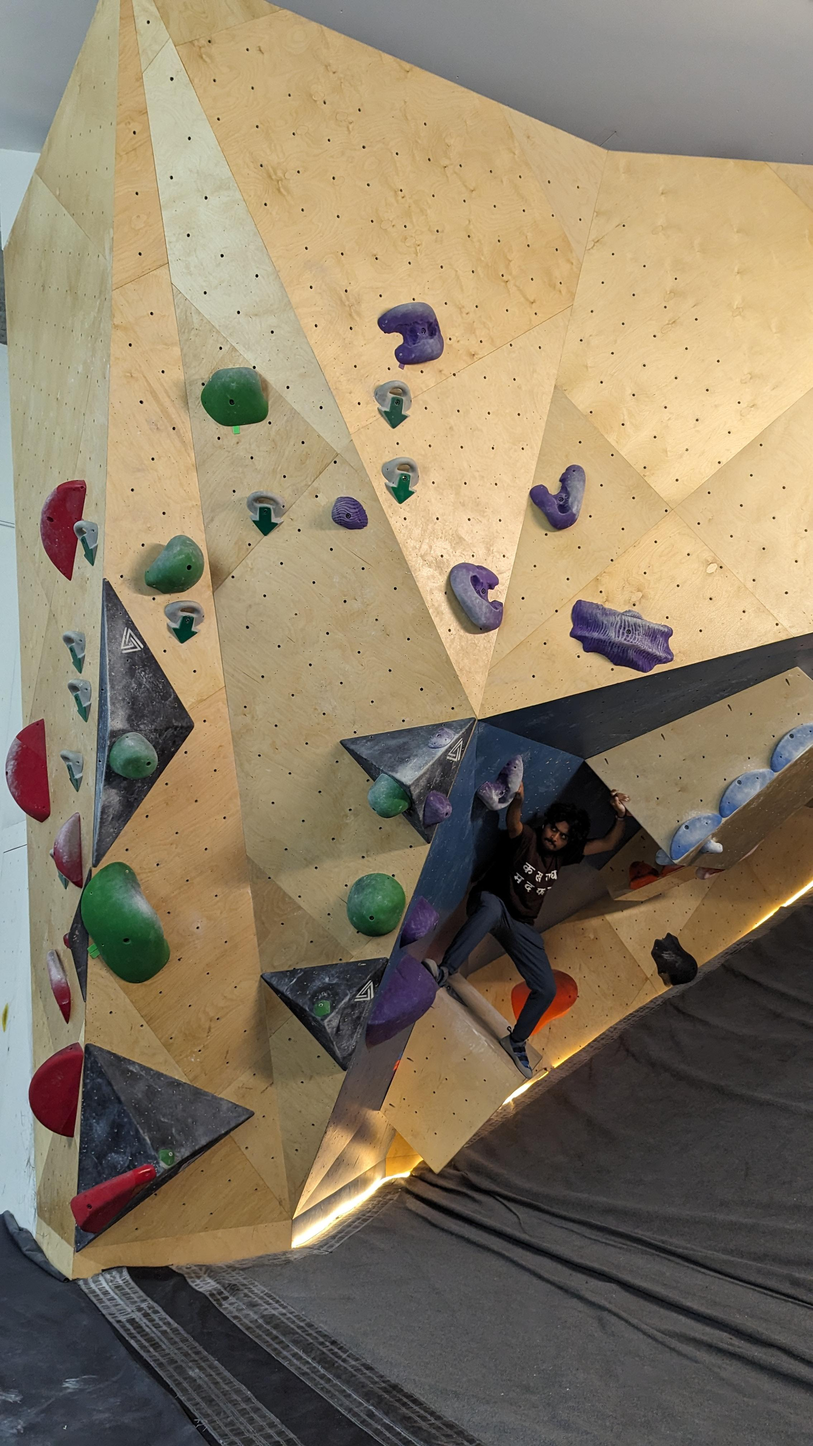black-hold: (63, 855, 184, 995), (349, 951, 449, 1065), (562, 597, 682, 679), (61, 1141, 160, 1240), (374, 292, 454, 377), (137, 528, 217, 610), (30, 474, 89, 582), (526, 457, 606, 536), (23, 1037, 85, 1138), (1, 717, 52, 825), (340, 867, 411, 942), (447, 556, 507, 636), (708, 756, 777, 821), (199, 365, 270, 428), (100, 725, 167, 791), (473, 752, 541, 817), (529, 967, 583, 1046), (658, 801, 726, 863), (643, 927, 704, 994), (391, 895, 445, 958), (238, 480, 295, 538), (368, 373, 423, 432), (760, 715, 813, 776), (359, 771, 416, 827), (375, 449, 430, 507), (158, 589, 213, 646), (41, 947, 79, 1026), (52, 811, 84, 890), (58, 744, 94, 795), (500, 976, 535, 1022), (329, 495, 371, 532), (65, 676, 96, 726), (622, 854, 662, 891), (71, 519, 99, 568), (421, 789, 454, 826), (425, 722, 458, 756), (61, 629, 86, 672), (651, 848, 676, 874), (657, 857, 686, 878), (700, 837, 725, 859), (695, 867, 726, 882), (313, 1000, 330, 1017), (159, 1148, 175, 1166), (62, 932, 72, 950)
